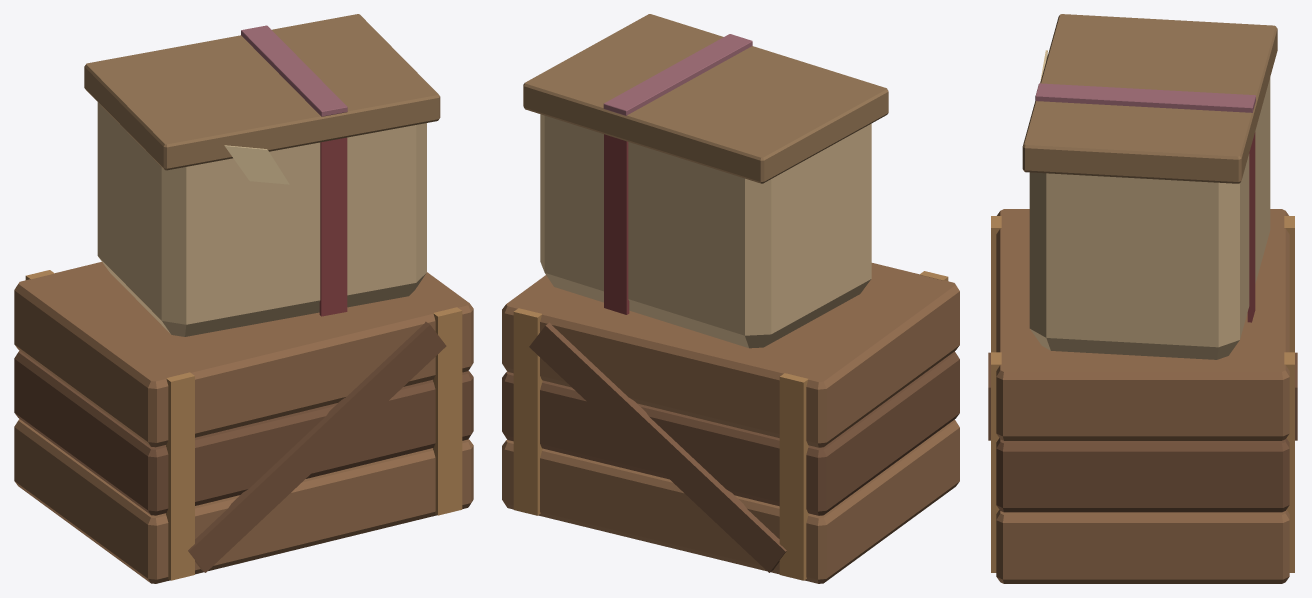
The model's file is stacked_boxes.glb.
3 renders of one model, left to right at view 1: azimuth 30°, elevation 25°; view 2: azimuth 150°, elevation 25°; view 3: azimuth 270°, elevation 25°, orthographic. The views are drawn at different scales.
Visible parts, largest first — view 1: stacked_boxes; view 2: stacked_boxes; view 3: stacked_boxes.
Part boxes in pixels (left/top/right/bottom): stacked_boxes: left=14, top=14, right=473, bottom=583; stacked_boxes: left=502, top=14, right=959, bottom=583; stacked_boxes: left=988, top=14, right=1297, bottom=583.
Bounding box in the file's own units: 0.7 × 0.85 × 0.55.
